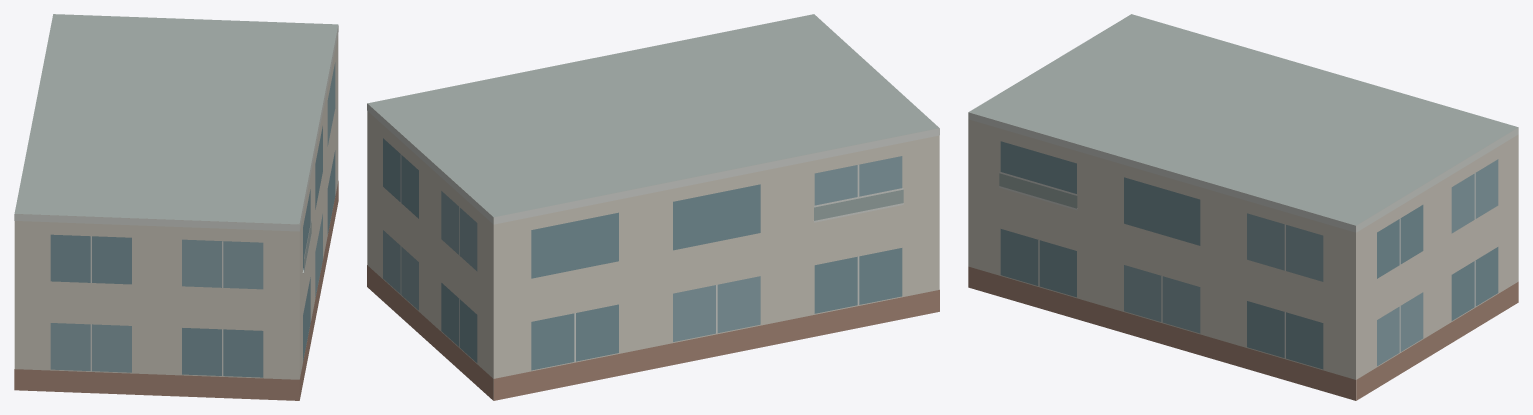
Rendered from survey-upis-32912444.glb.
The picture shows the model from 3 angles, left to right: view 1: azimuth 30°, elevation 25°; view 2: azimuth 150°, elevation 25°; view 3: azimuth 270°, elevation 25°; orthographic projection. The views are drawn at different scales.
Parts seen in each view (by area): view 1: survey-upis-32912444.tmp; view 2: survey-upis-32912444.tmp; view 3: survey-upis-32912444.tmp.
Part boxes in pixels (box(x1,y1,x2,y2)): survey-upis-32912444.tmp: box(14, 14, 338, 400); survey-upis-32912444.tmp: box(367, 14, 939, 400); survey-upis-32912444.tmp: box(968, 14, 1518, 400).
Size of the model in its own units: 15.83 by 6.1 by 17.38.
